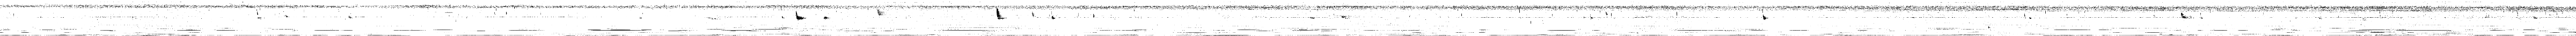meteor: (996, 7, 1007, 20), (795, 10, 807, 21), (877, 10, 884, 16), (1763, 15, 1769, 20), (2182, 13, 2188, 18), (823, 16, 831, 20), (1051, 16, 1056, 20)
